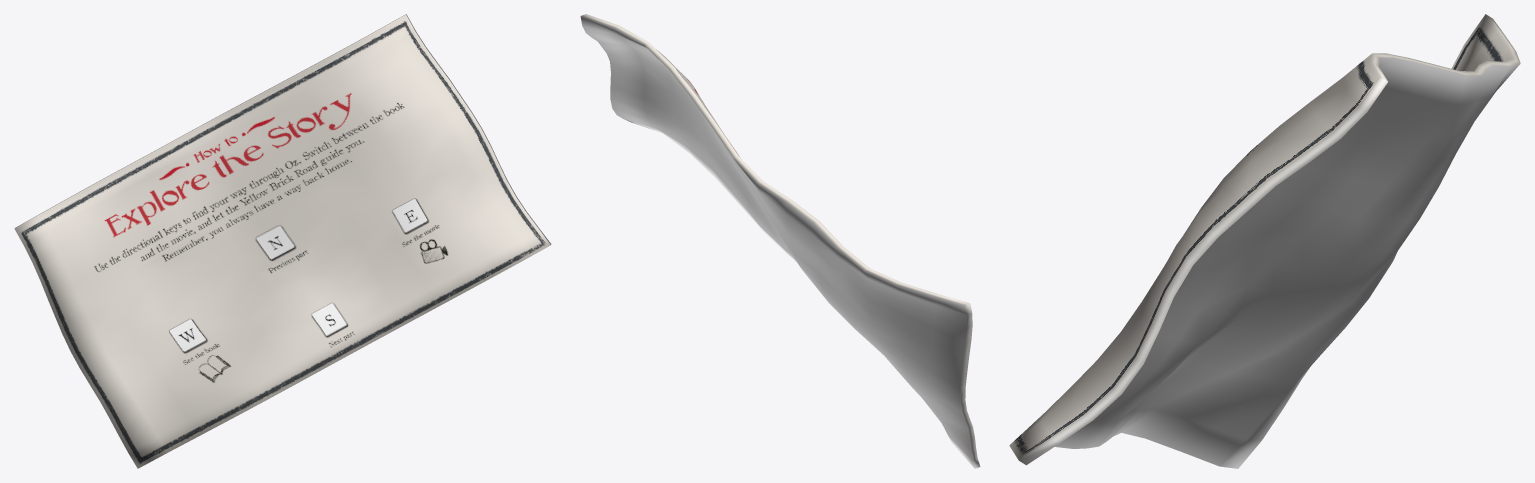
The model's file is regras.glb.
The picture shows the model from 3 angles, left to right: view 1: azimuth 30°, elevation 25°; view 2: azimuth 150°, elevation 25°; view 3: azimuth 270°, elevation 25°; orthographic projection. The views are drawn at different scales.
Parts seen in each view (by area): view 1: About.001; view 2: About.001; view 3: About.001.
Boxes of the visible parts, bbox=[...] form: About.001: bbox=[14, 14, 551, 468]; About.001: bbox=[580, 14, 980, 468]; About.001: bbox=[1009, 14, 1520, 468].
Bounding box in the file's own units: 0.0577 × 0.0464 × 0.0318.
2 materials, 1 textured.
